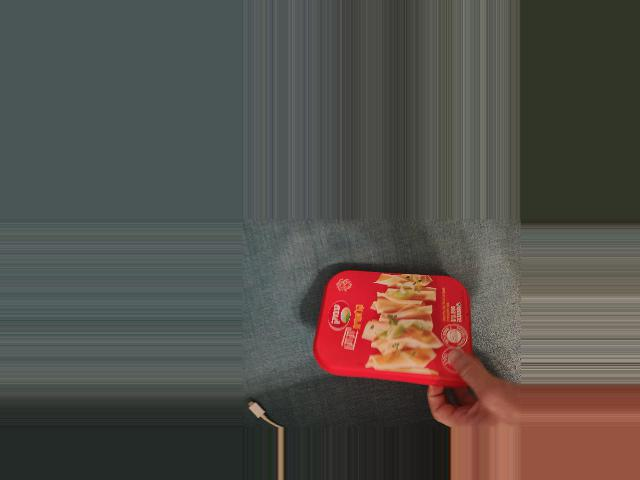cheese: (317, 268, 475, 391)
